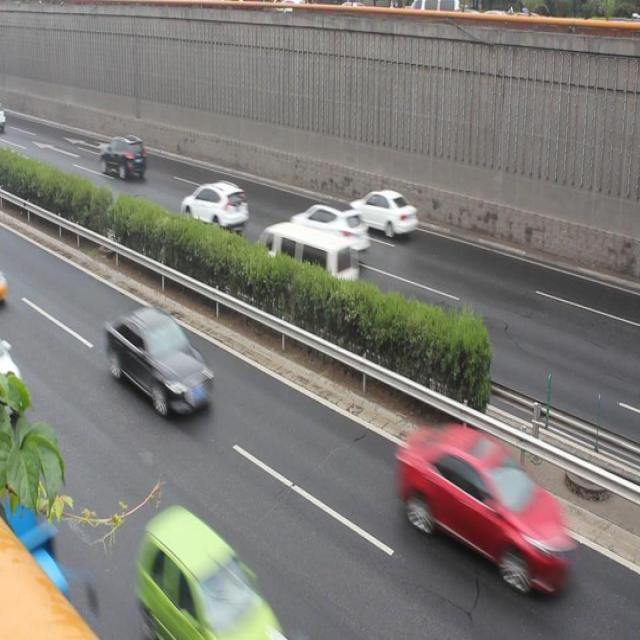car: (386, 422, 577, 587), (137, 503, 277, 640), (103, 300, 211, 416), (292, 197, 367, 252), (180, 178, 249, 236), (351, 185, 416, 239), (97, 130, 149, 179)
truck: (258, 224, 356, 302)
